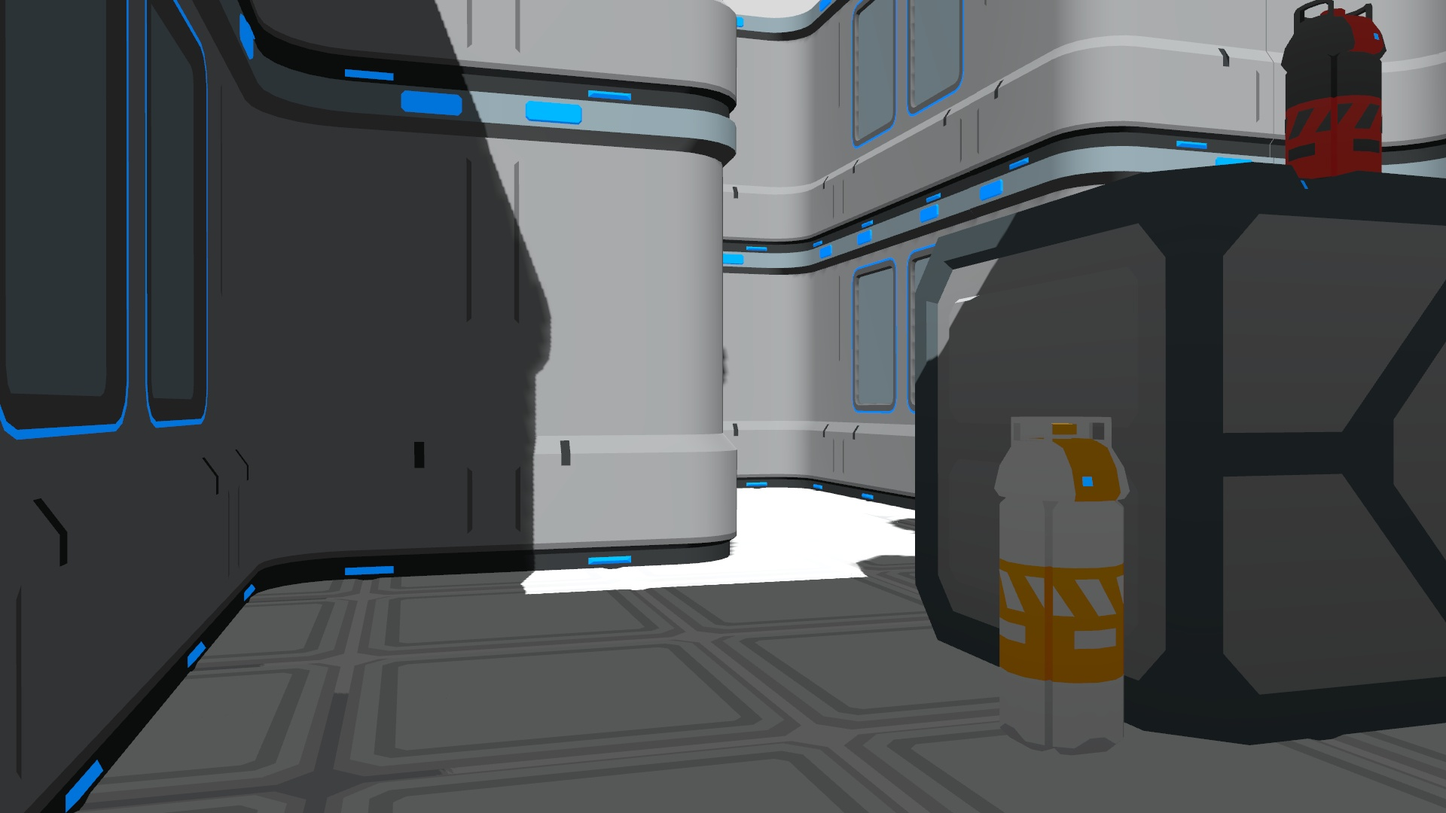red_barrel: (1277, 0, 1387, 186)
yellow_barrel: (992, 407, 1139, 764)
